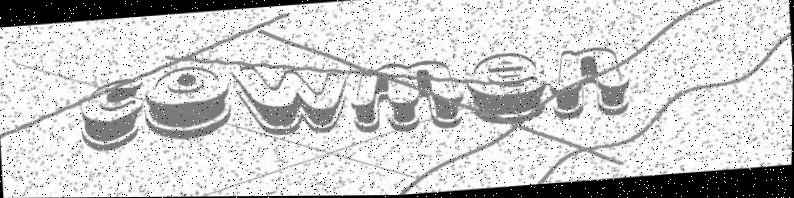c: (76, 77, 147, 154)
e: (462, 50, 548, 127)
m: (347, 58, 465, 136)
n: (548, 44, 632, 122)
o: (142, 63, 235, 144)
w: (230, 57, 351, 141)
